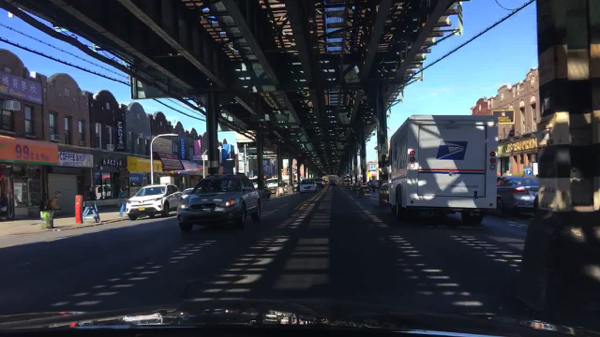bus: (387, 114, 499, 226)
car: (177, 171, 261, 234), (125, 183, 182, 221), (495, 176, 540, 217), (247, 176, 271, 199), (298, 178, 318, 195), (178, 189, 195, 204), (265, 177, 279, 192), (280, 182, 289, 195), (315, 177, 324, 188), (352, 184, 362, 193), (344, 181, 352, 190), (363, 186, 371, 194), (328, 180, 337, 186), (363, 182, 370, 189), (323, 180, 330, 186)
person: (81, 185, 99, 223), (118, 186, 127, 204)
